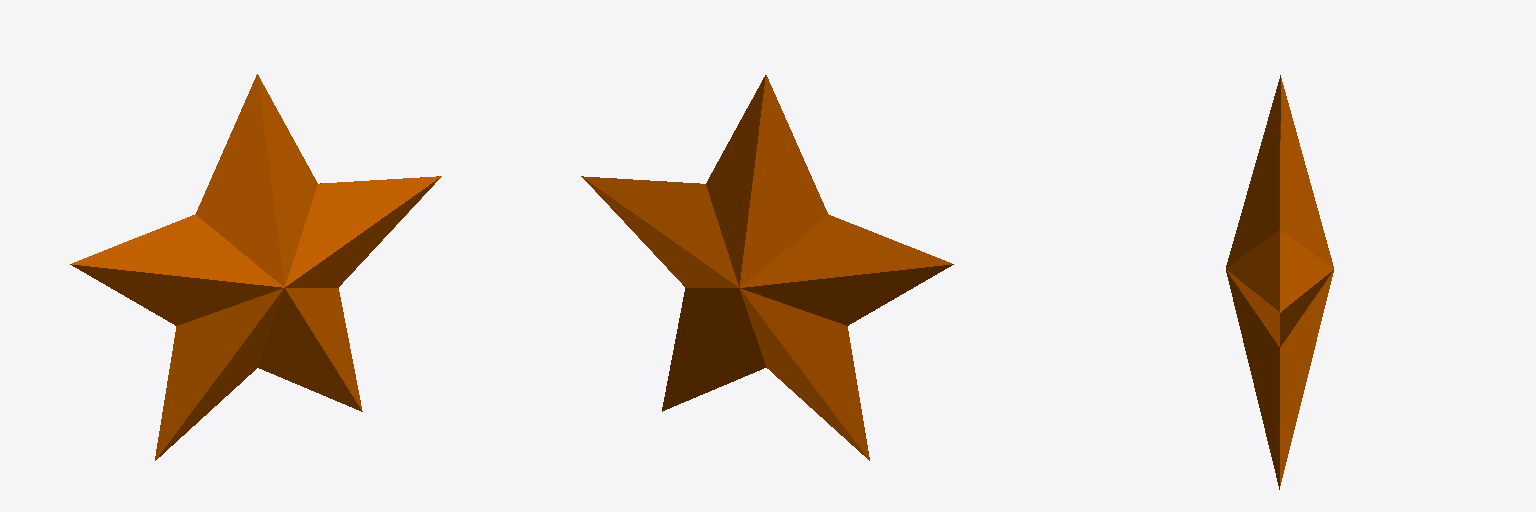
Rendered from star.obj.
3 renders of one model, left to right at view 1: azimuth 30°, elevation 25°; view 2: azimuth 150°, elevation 25°; view 3: azimuth 270°, elevation 25°, orthographic.
Parts seen in each view (by area): view 1: Star_Plane; view 2: Star_Plane; view 3: Star_Plane.
Part boxes in pixels (x1,y1,x2,y2): Star_Plane: (70,74,441,460); Star_Plane: (581,75,953,460); Star_Plane: (1226,75,1333,489).
Bounding box in the file's own units: 1.8 × 1.68 × 0.4552.